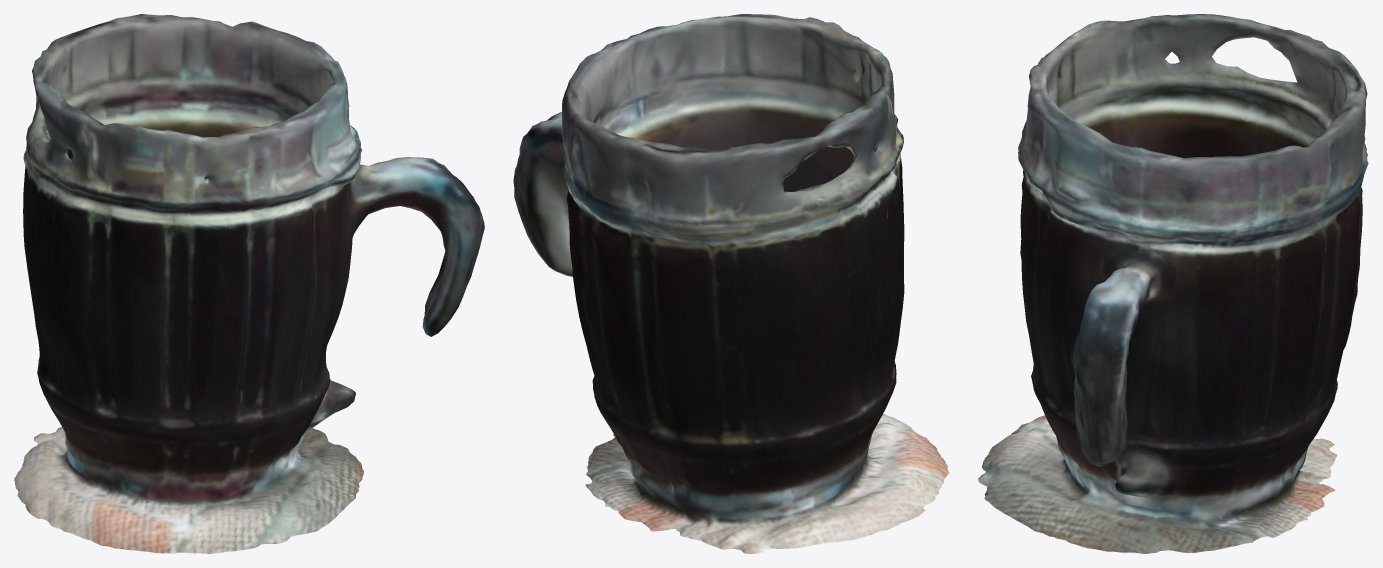
3 renders of one model, left to right at view 1: azimuth 30°, elevation 25°; view 2: azimuth 150°, elevation 25°; view 3: azimuth 270°, elevation 25°, orthographic. The views are drawn at different scales.
Parts seen in each view (by area): view 1: 3DModel; view 2: 3DModel; view 3: 3DModel.
Boxes of the visible parts, bbox=[...] form: 3DModel: bbox=[14, 14, 484, 553]; 3DModel: bbox=[513, 14, 949, 553]; 3DModel: bbox=[978, 14, 1368, 553].
Size of the model in its own units: 0.3372 by 0.3073 by 0.2638.
Materials: 1 (1 with a texture image).
